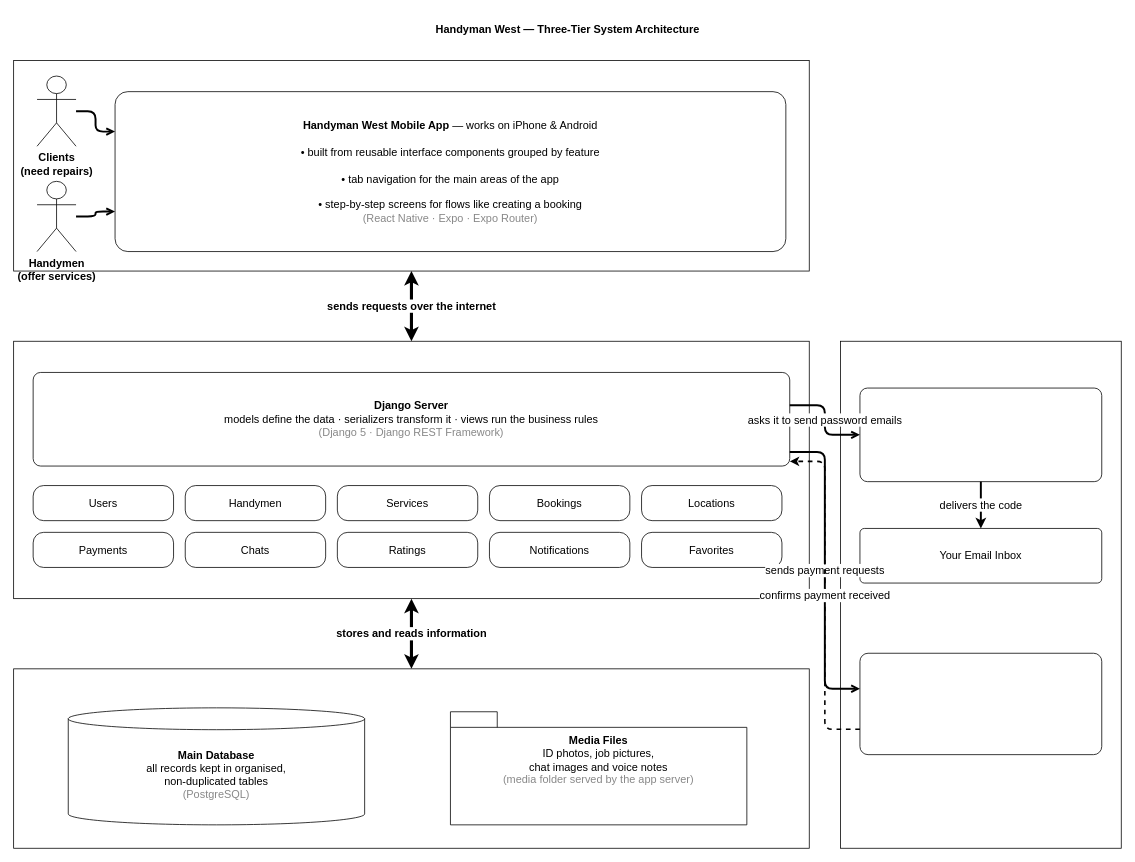
Image size: 1135x862. Some labels were removed from this diagram. Each missing label, with the box of its shape:
APPLICATION LAYER — where decisions are made: (13, 340, 809, 599)
DATA LAYER — where everything is kept: (13, 668, 809, 848)
Email Sender sends password-reset codes to users (SMTP ): (859, 387, 1102, 482)
EXTERNAL SERVICES: (840, 340, 1121, 848)
Mobile Money (MeSomb) pays handymen safely via MTN / Orange accounts: (859, 652, 1102, 755)
PRESENTATION LAYER — what users see: (13, 60, 809, 271)
